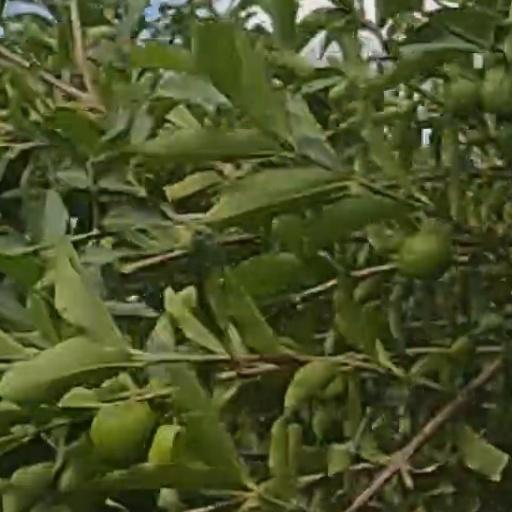acerola: (96, 404, 150, 459), (402, 231, 448, 278), (443, 73, 479, 113)
